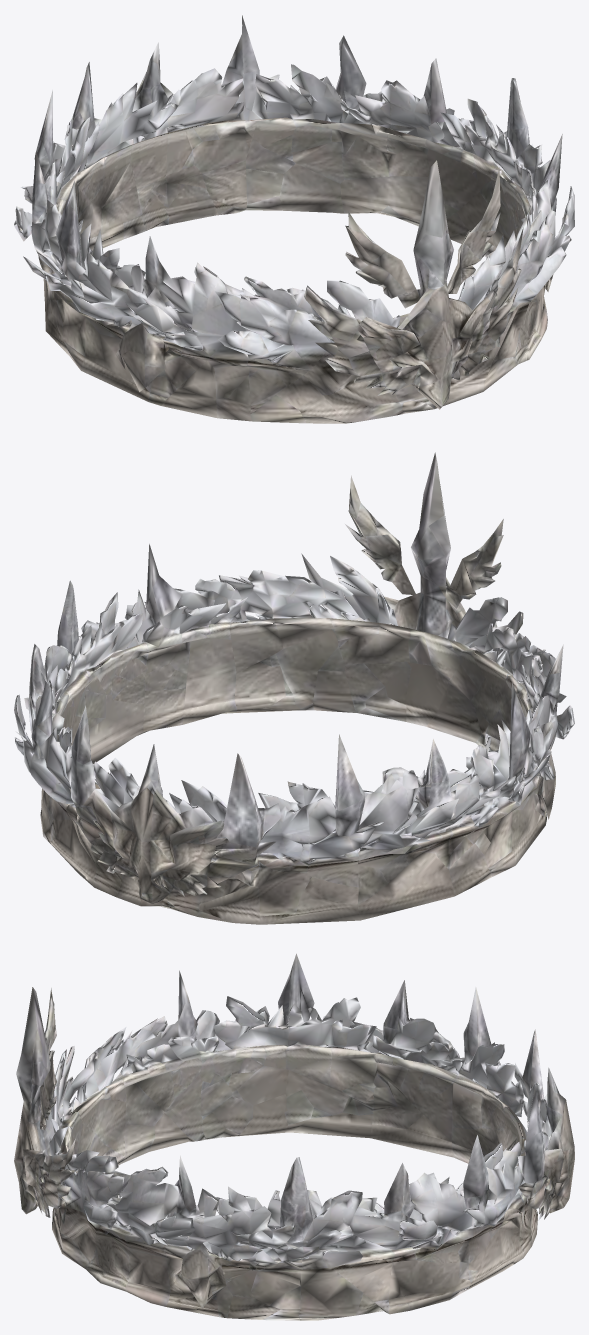
The model's file is crown.glb.
The picture shows the model from 3 angles, top to bottom: view 1: azimuth 30°, elevation 25°; view 2: azimuth 150°, elevation 25°; view 3: azimuth 270°, elevation 25°; orthographic projection. The views are drawn at different scales.
Bounding box in the file's own units: 1.75 × 0.8968 × 1.9.
Materials: 1 (1 with a texture image).
